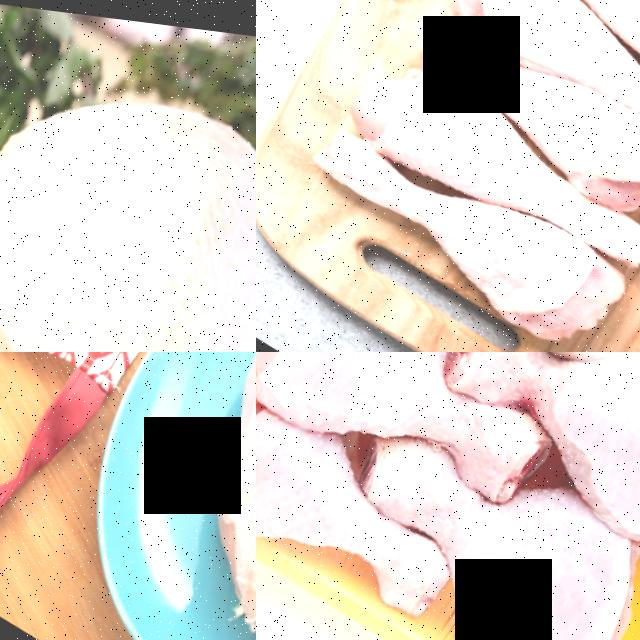chicken breast: (0, 0, 256, 352), (131, 352, 256, 640)
chicken thigh: (293, 95, 640, 352), (336, 32, 640, 281), (256, 362, 486, 638), (392, 0, 640, 219), (256, 352, 571, 509), (417, 352, 640, 533), (419, 0, 640, 153)
